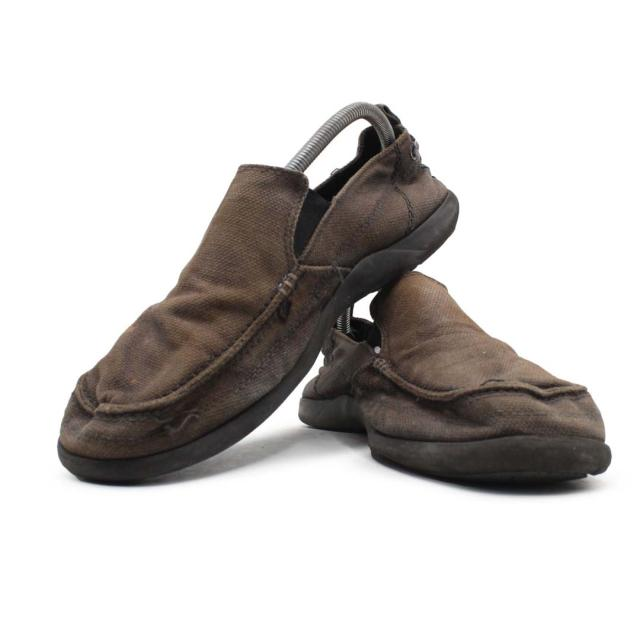heel: (361, 120, 453, 234)
midsole: (56, 192, 457, 487), (297, 397, 610, 485)
uppersole: (56, 162, 406, 459), (328, 272, 607, 439)
